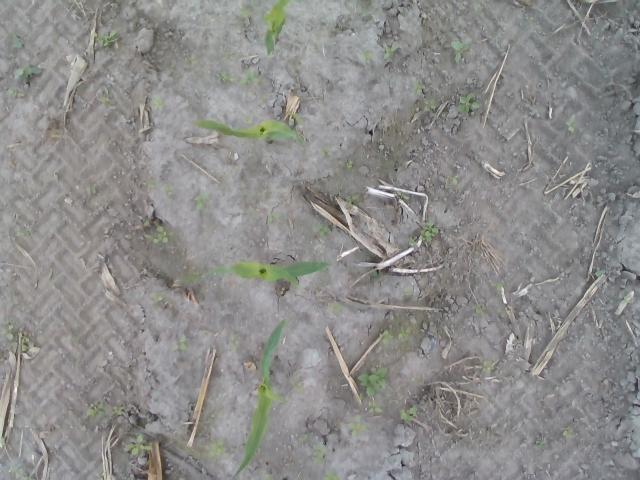Maize: (232, 317, 290, 480), (199, 260, 332, 289), (191, 116, 306, 146), (265, 0, 305, 58)
Weeds: (356, 364, 390, 398), (0, 317, 32, 352), (382, 323, 422, 351), (121, 432, 151, 456), (347, 414, 369, 441), (203, 438, 230, 458), (90, 30, 120, 48), (450, 40, 471, 65), (144, 224, 170, 244), (456, 94, 482, 113), (15, 63, 42, 80), (416, 222, 438, 242), (398, 404, 418, 426), (83, 398, 106, 417), (191, 191, 209, 215), (238, 64, 257, 86), (176, 271, 198, 288), (316, 223, 336, 241), (311, 446, 330, 464), (358, 48, 376, 66), (214, 69, 236, 83), (171, 335, 189, 352), (408, 79, 426, 96), (148, 290, 166, 306), (8, 31, 24, 49), (228, 334, 242, 354), (6, 86, 27, 99), (264, 208, 280, 225), (366, 400, 384, 415), (321, 469, 345, 480), (238, 3, 255, 18), (326, 302, 344, 316), (422, 97, 438, 112), (151, 96, 168, 110), (472, 303, 487, 318), (111, 405, 128, 418), (100, 96, 114, 110), (320, 144, 334, 158), (480, 360, 494, 374), (566, 115, 576, 134), (159, 183, 176, 194), (344, 194, 361, 205), (384, 47, 398, 60), (495, 305, 507, 319), (144, 179, 159, 189), (396, 190, 411, 200), (16, 228, 33, 236), (562, 430, 576, 439), (260, 472, 274, 480), (407, 235, 417, 246), (534, 439, 544, 449), (594, 269, 607, 276), (447, 176, 458, 184), (400, 287, 414, 293), (527, 15, 536, 24), (345, 159, 353, 169), (494, 281, 504, 289), (624, 296, 632, 304), (142, 218, 150, 224), (335, 191, 342, 196)
